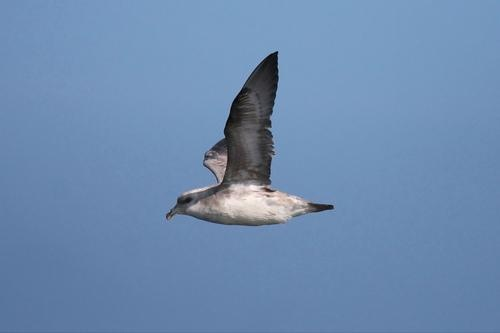bird: (166, 49, 332, 226)
